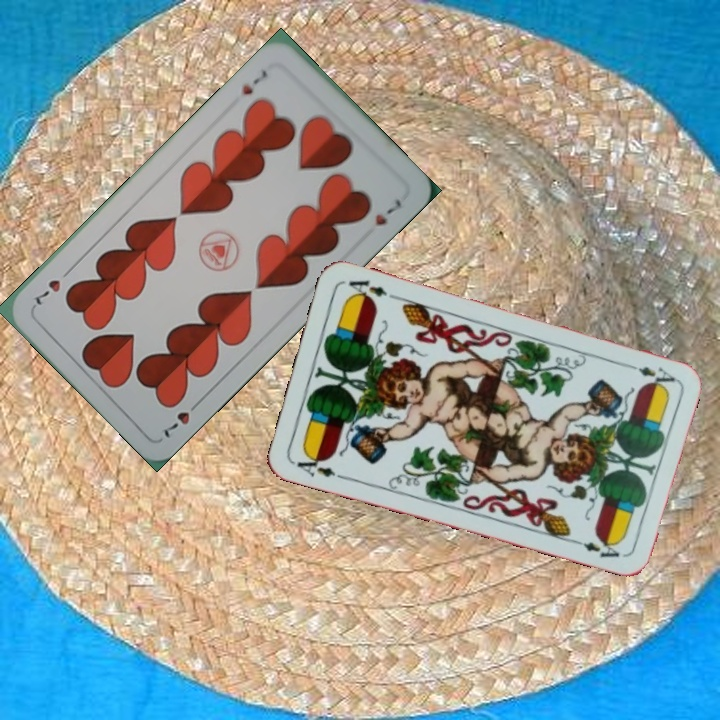EA: (292, 449, 349, 483), (620, 358, 678, 385)
H7: (160, 395, 205, 441), (238, 65, 271, 98)
